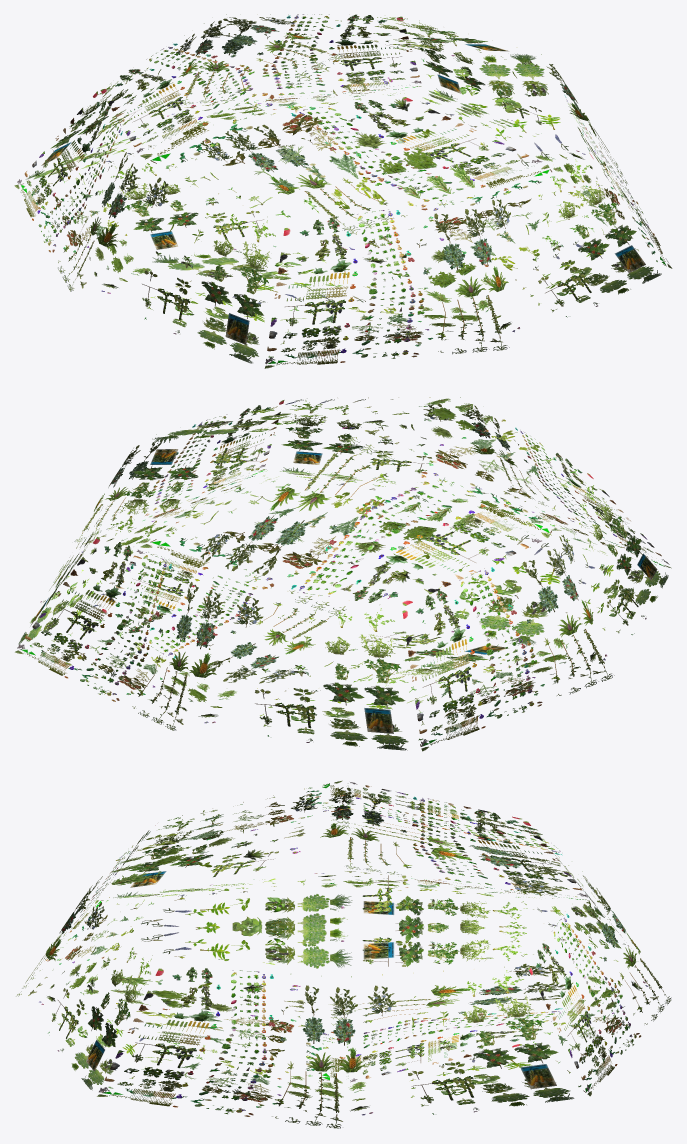
File: sprout_0.obj
The picture shows the model from 3 angles, top to bottom: view 1: azimuth 30°, elevation 25°; view 2: azimuth 150°, elevation 25°; view 3: azimuth 270°, elevation 25°; orthographic projection.
Visible parts, largest first — view 1: sprout_0; view 2: sprout_0; view 3: sprout_0.
Boxes of the visible parts, <box> form: sprout_0: <box>14,14,672,368</box>; sprout_0: <box>15,397,671,751</box>; sprout_0: <box>16,780,671,1128</box>.
Size of the model in its own units: 0.5052 by 0.1579 by 0.5368.
